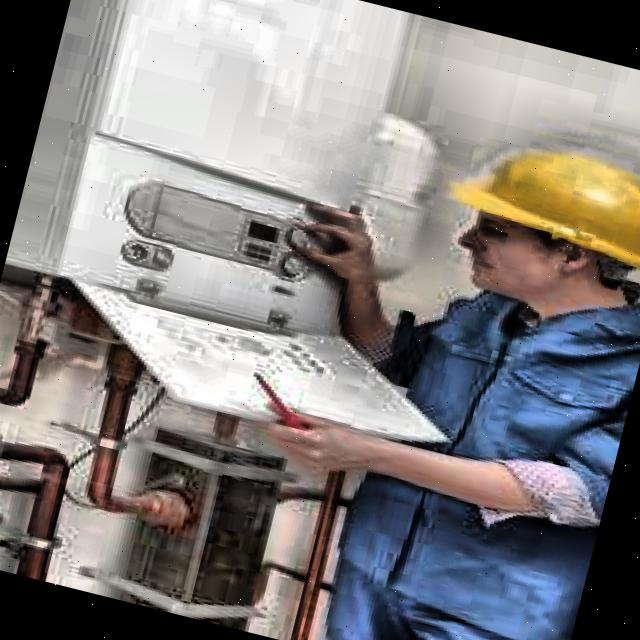helmet: (394, 104, 640, 338)
